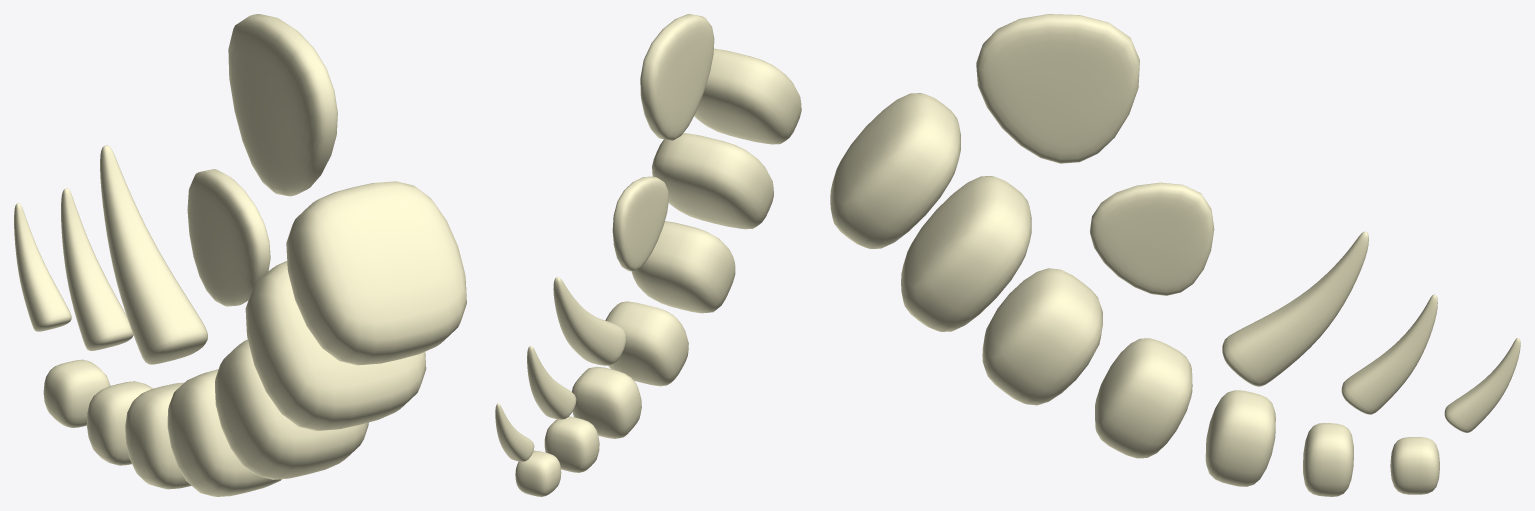
Rendered from tail.glb.
3 views of the same model, side by side, from view 1: azimuth 30°, elevation 25°; view 2: azimuth 150°, elevation 25°; view 3: azimuth 270°, elevation 25° (orthographic). The views are drawn at different scales.
Visible parts, largest first — view 1: Cube.014, Cube.033, Cube.015, Plane, Cube.016, Cube.034, Cube.017, Plane.001, Cube.018, Plane.008, Cube.019, Cube.020; view 2: Cube.015, Cube.014, Cube.033, Cube.016, Cube.017, Cube.034, Cube.018, Plane, Cube.019, Plane.001, Cube.020, Plane.008; view 3: Cube.033, Cube.014, Cube.015, Cube.016, Cube.034, Cube.017, Plane, Cube.018, Plane.001, Cube.019, Plane.008, Cube.020.
Boxes of the visible parts, x1,y1,x2,y2 form: Cube.014: [286, 181, 466, 365]; Cube.033: [228, 14, 337, 196]; Cube.015: [245, 261, 426, 430]; Plane: [100, 145, 207, 364]; Cube.016: [215, 339, 368, 479]; Cube.034: [187, 169, 270, 306]; Cube.017: [167, 369, 281, 496]; Plane.001: [61, 188, 133, 350]; Cube.018: [125, 382, 191, 489]; Plane.008: [14, 203, 71, 331]; Cube.019: [86, 381, 152, 465]; Cube.020: [43, 359, 110, 427]; Cube.015: [652, 133, 773, 229]; Cube.014: [694, 48, 801, 144]; Cube.033: [640, 14, 714, 140]; Cube.016: [631, 221, 735, 313]; Cube.017: [605, 301, 688, 386]; Cube.034: [612, 176, 668, 271]; Cube.018: [572, 366, 641, 438]; Plane: [553, 277, 626, 365]; Cube.019: [544, 416, 599, 472]; Plane.001: [527, 346, 576, 419]; Cube.020: [515, 450, 561, 496]; Plane.008: [495, 403, 534, 461]; Cube.033: [976, 14, 1139, 163]; Cube.014: [830, 93, 960, 248]; Cube.015: [901, 176, 1031, 331]; Cube.016: [982, 268, 1102, 405]; Cube.034: [1089, 182, 1214, 295]; Cube.017: [1095, 338, 1192, 458]; Plane: [1222, 231, 1368, 386]; Cube.018: [1205, 390, 1275, 486]; Plane.001: [1341, 294, 1437, 414]; Cube.019: [1303, 423, 1353, 496]; Plane.008: [1444, 338, 1520, 432]; Cube.020: [1390, 437, 1439, 494].
Size of the model in its own units: 0.2513 by 0.8905 by 1.17.
Materials: 1 (1 with a texture image).
